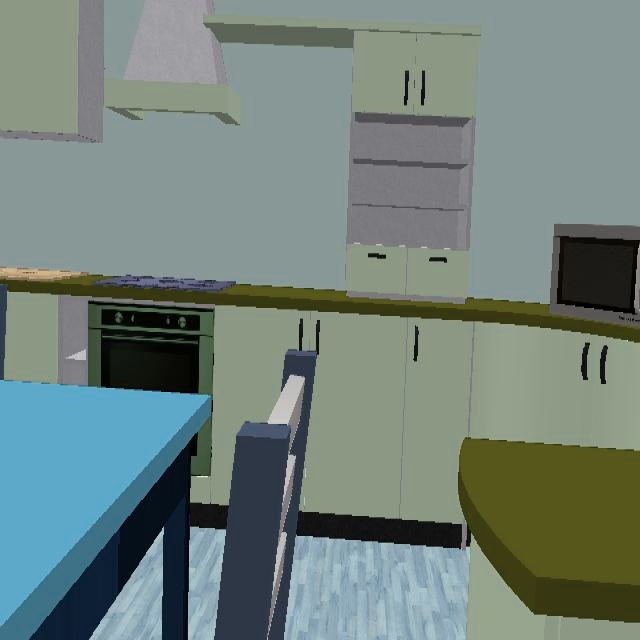cabinet: (188, 307, 640, 548), (203, 15, 481, 303), (466, 537, 640, 640), (4, 292, 88, 385)
chair: (214, 349, 318, 640)
countertop: (0, 268, 640, 344), (457, 437, 640, 624)
microwave: (550, 224, 640, 328)
oven: (88, 303, 215, 477)
stove: (93, 276, 235, 292)
table: (0, 380, 212, 640)
